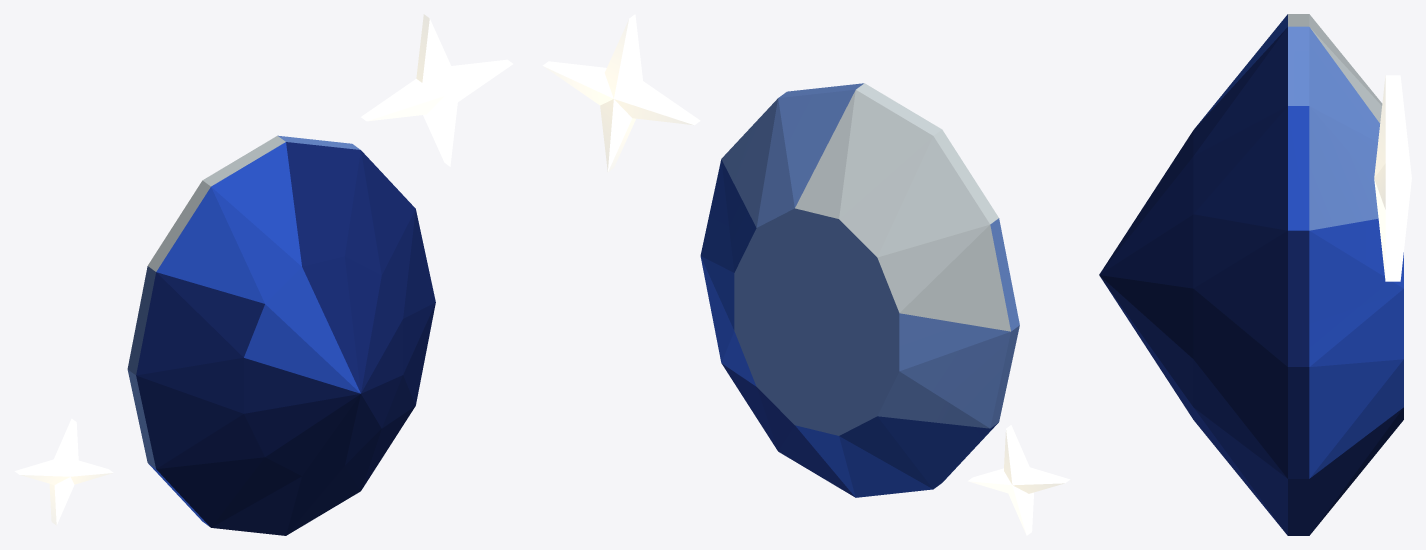
The model's file is gem_sapphire.glb.
3 renders of one model, left to right at view 1: azimuth 30°, elevation 25°; view 2: azimuth 150°, elevation 25°; view 3: azimuth 270°, elevation 25°, orthographic. The views are drawn at different scales.
Size of the model in its own units: 0.269 by 0.2291 by 0.116.
